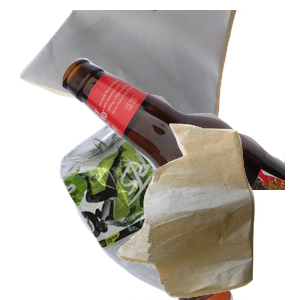glass: (60, 56, 300, 236)
paper: (17, 10, 254, 141)
plastic: (57, 120, 293, 300)
trash: (114, 121, 300, 300)
